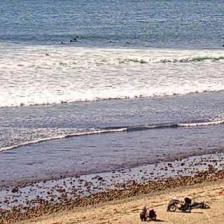surfer: (125, 41, 130, 44), (61, 41, 65, 44), (76, 36, 82, 38), (69, 40, 74, 42), (46, 53, 49, 56), (109, 40, 112, 43), (74, 37, 76, 40), (0, 39, 1, 42), (222, 44, 223, 47)
